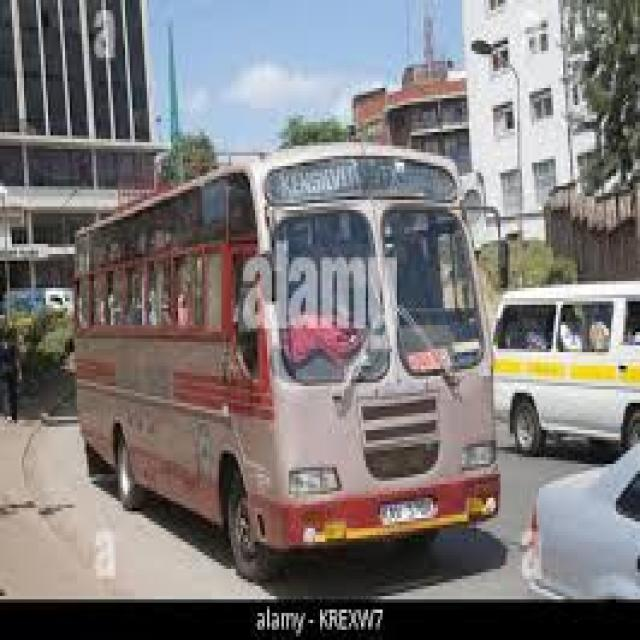bus: (53, 134, 512, 563)
matatu: (531, 272, 640, 448)
